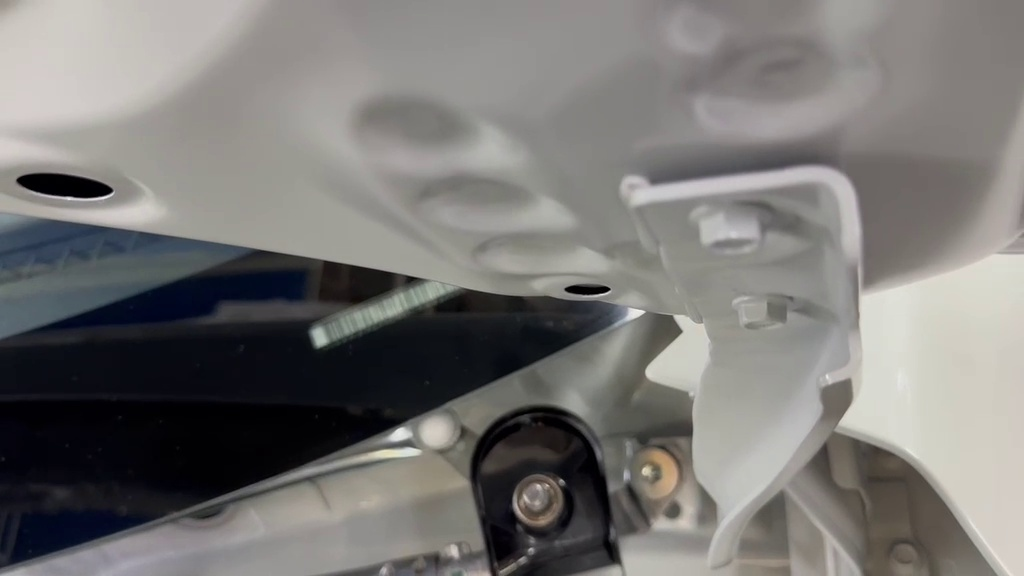barcode: (450, 401, 638, 576)
hinge: (286, 249, 482, 366)
